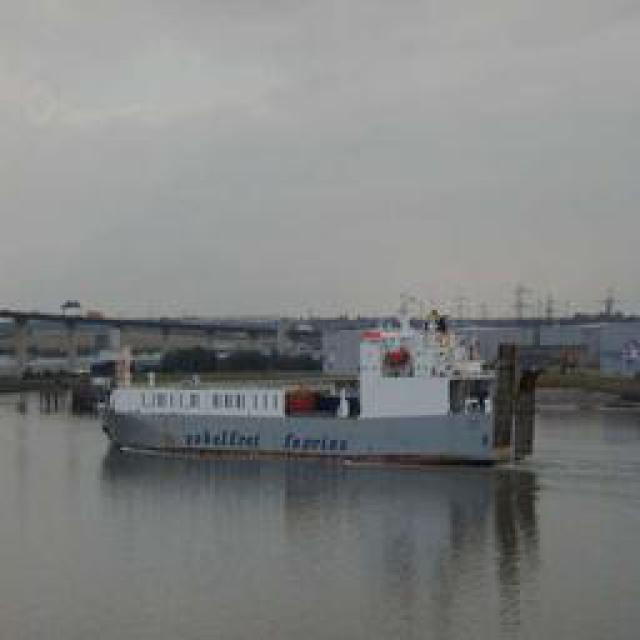Ship: (99, 322, 524, 465)
